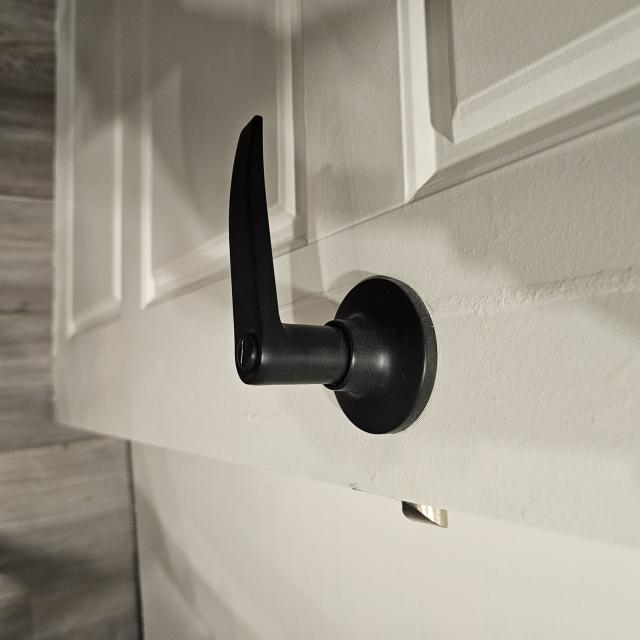door-handle: (229, 116, 438, 434), (399, 364, 400, 368)
